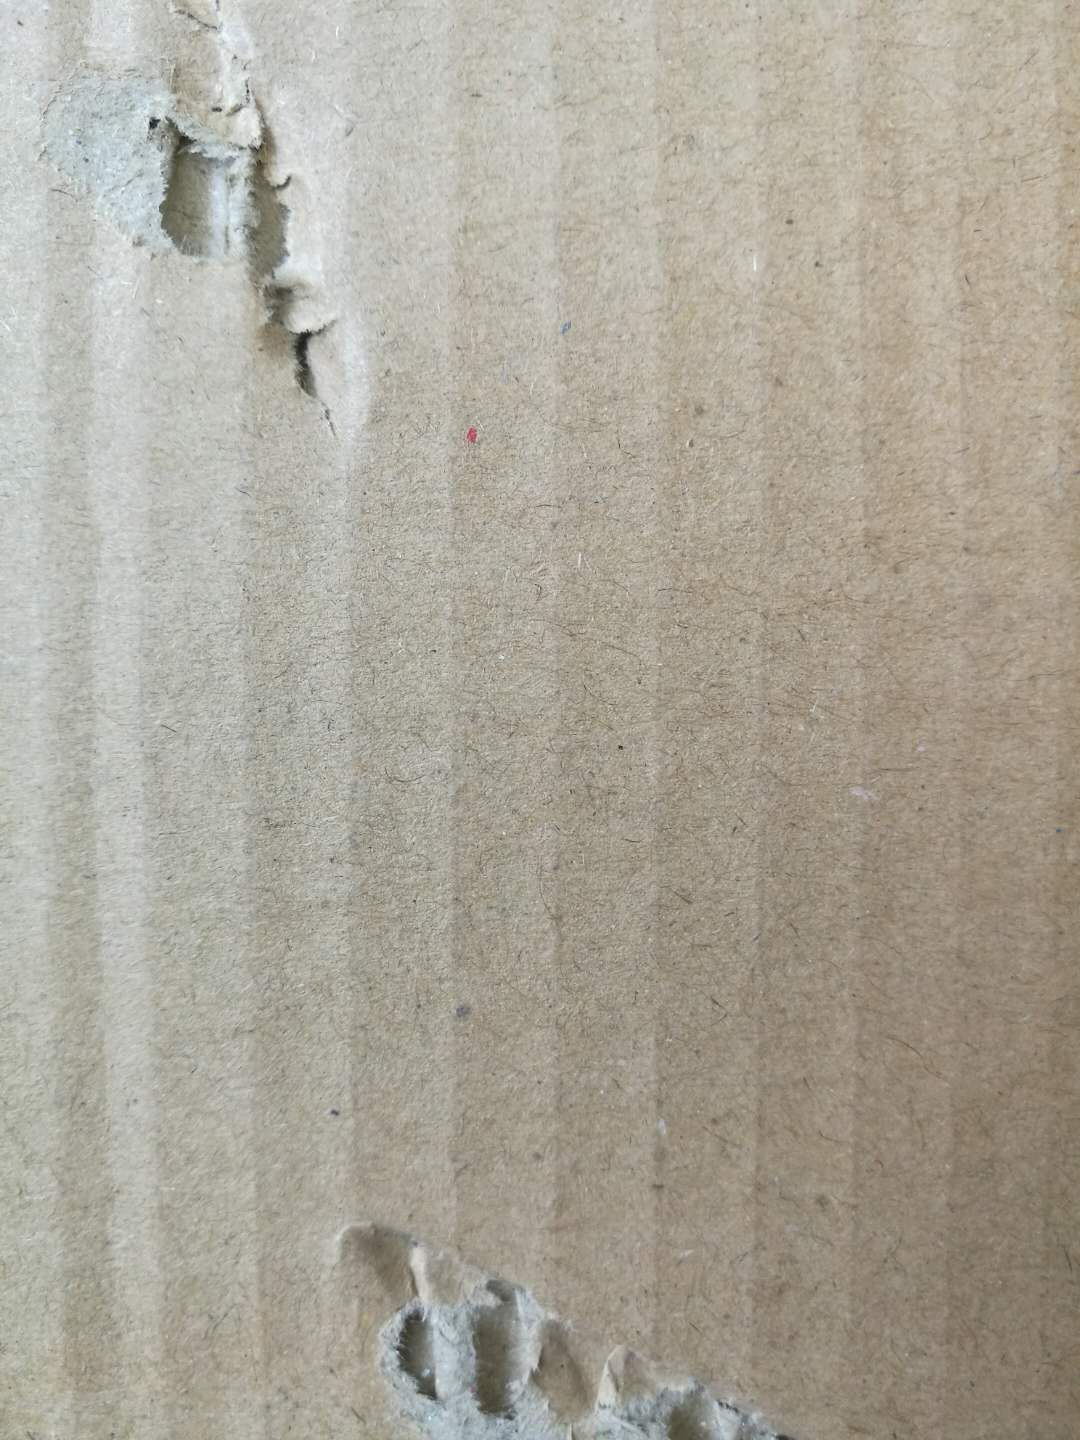defect: (2, 5, 391, 472), (299, 1179, 843, 1440)
